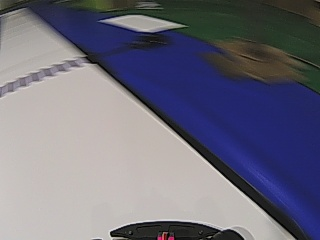CrossWalk: (1, 53, 97, 99)
